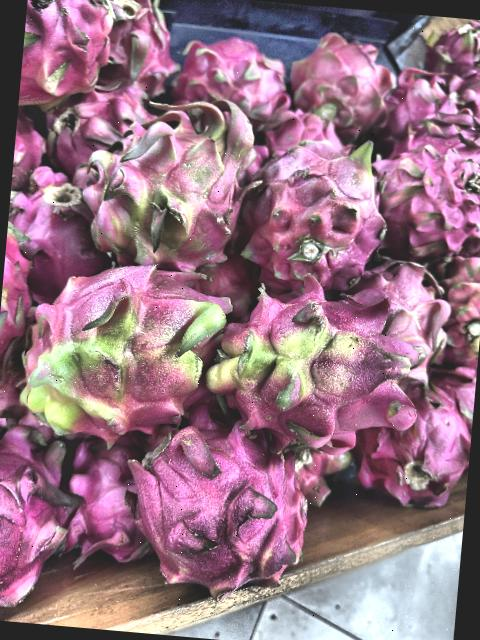buah-naga-belum-matang: (201, 256, 446, 462), (10, 248, 228, 446), (74, 98, 260, 274), (241, 126, 394, 284)
buah-naga-matang: (111, 412, 330, 604), (354, 377, 476, 512), (0, 418, 77, 604), (362, 130, 480, 249), (61, 424, 158, 557), (172, 30, 298, 127), (292, 23, 399, 136), (6, 160, 110, 276), (17, 0, 116, 113), (99, 0, 185, 105), (42, 85, 148, 168), (419, 246, 480, 369), (387, 54, 462, 130), (428, 16, 480, 78), (459, 63, 480, 117)
